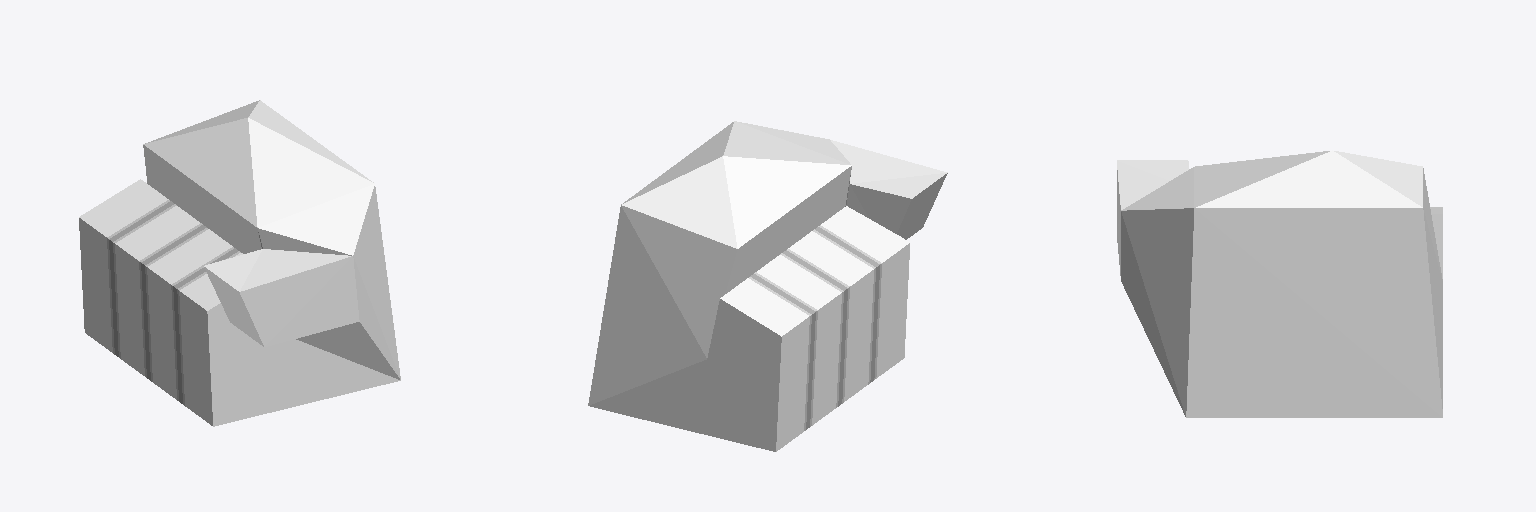
The picture shows the model from 3 angles: view 1: azimuth 30°, elevation 25°; view 2: azimuth 150°, elevation 25°; view 3: azimuth 270°, elevation 25°; orthographic projection.
Visible parts, largest first — view 1: Object001; view 2: Object001; view 3: Object001.
Part boxes in pixels (x1,y1,x2,y2): Object001: (79,100,400,426); Object001: (588,121,947,451); Object001: (1117,150,1442,417).
Size of the model in its own units: 1.71 by 1.91 by 2.46.
1 materials, 1 textured.